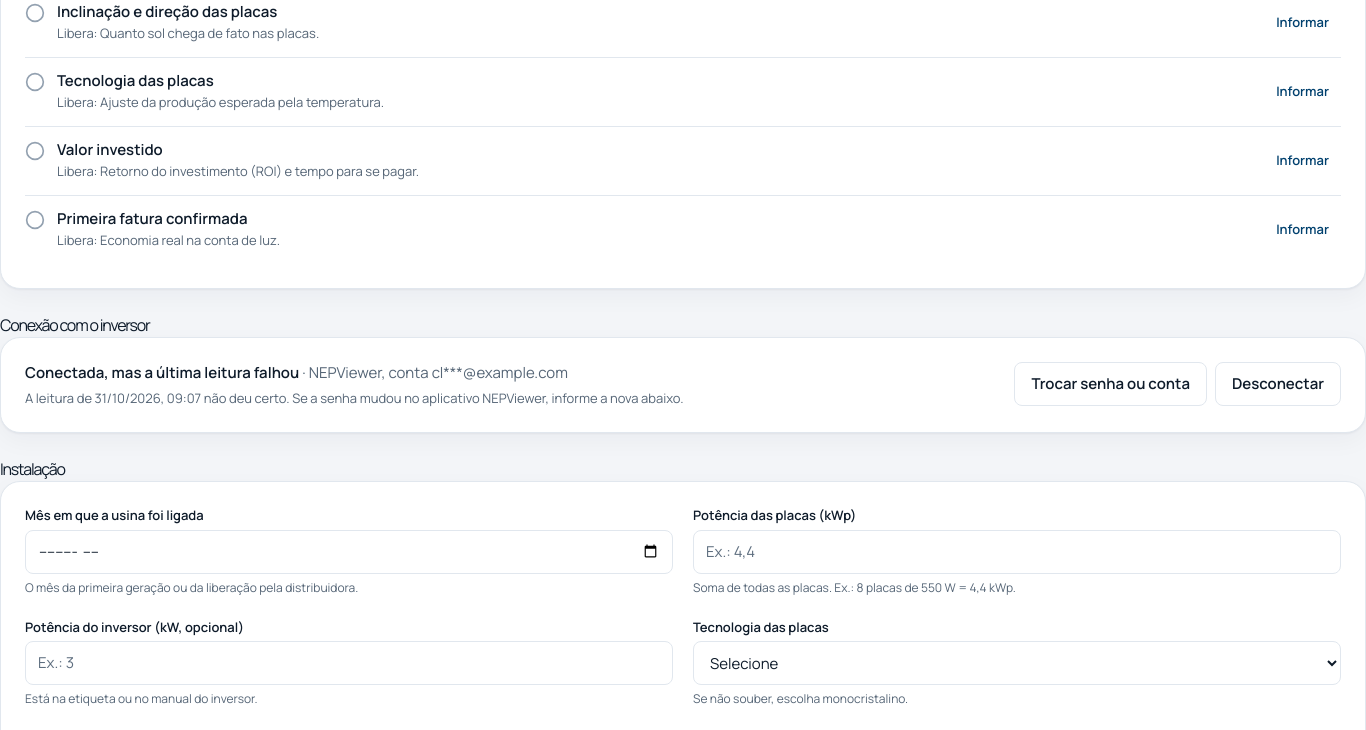
Test: PlantSetupPage — conexão com o inversor (ADR-091) › com falha na última leitura, pede a senha nova
The width and height of the screenshot is (1366, 730).
(page scrolled)
Expected: the text "Conectada, mas a última leitura falhou" is shown, [25,362,299,383]
Click the button "Trocar senha ou conta" at [1111, 384], box [1014,362,1207,406]
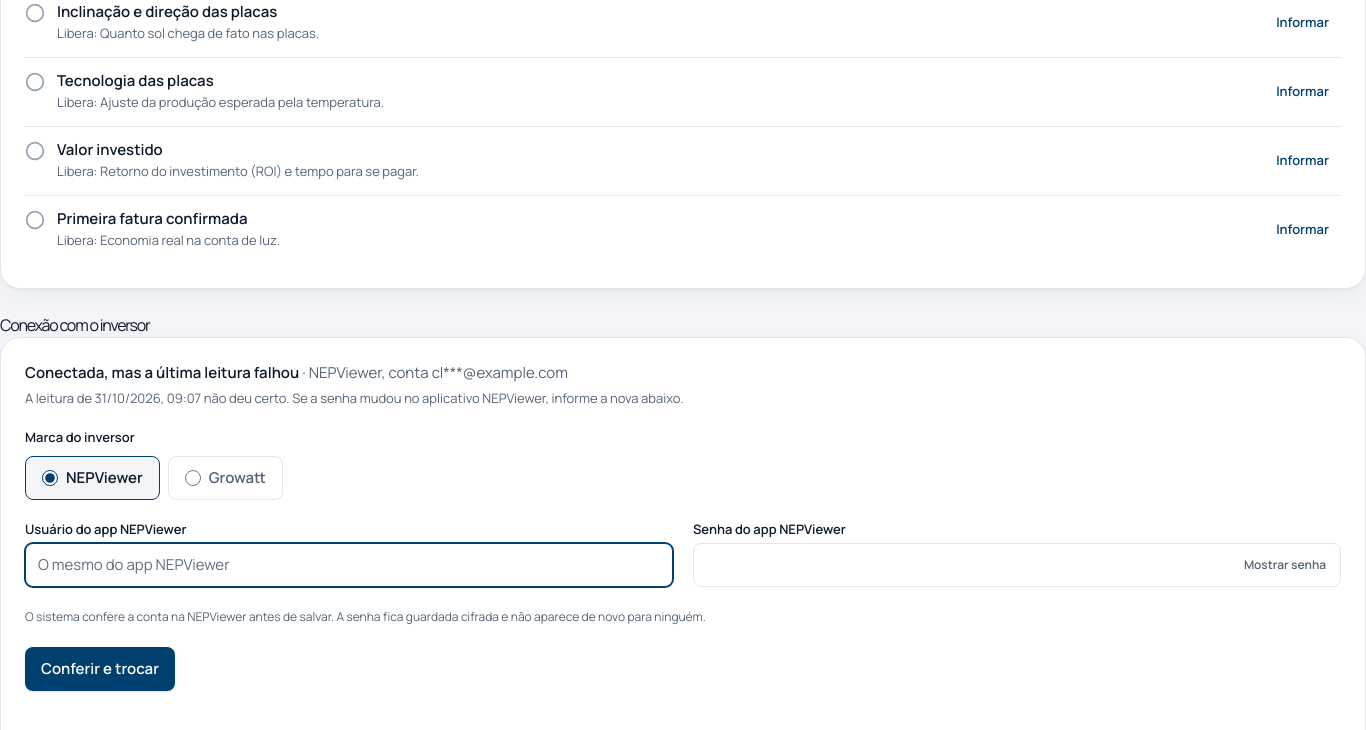
Expected: the password field labelled "Senha do app NEPViewer" is empty, [693,543,1341,587]
Expected: the button "Conferir e trocar" is shown, [25,647,175,691]
